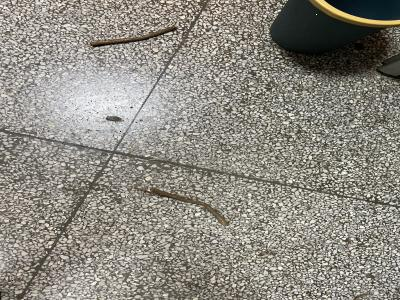Root: (144, 188, 228, 226), (90, 26, 176, 47)
